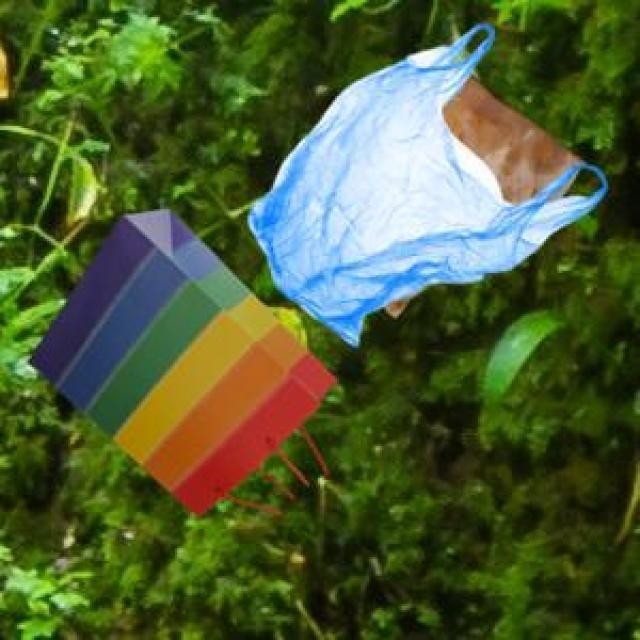paper: (24, 205, 333, 512), (380, 70, 580, 314)
